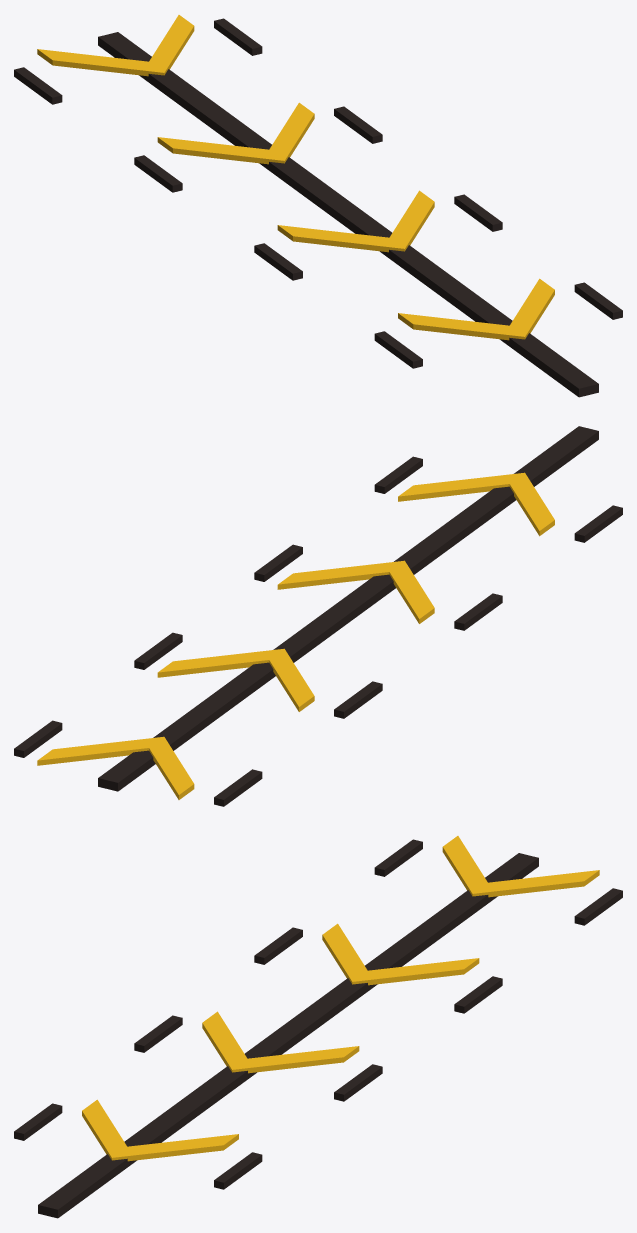
The model's file is trap_dart_lane__upper.glb.
3 renders of one model, top to bottom at view 1: azimuth 30°, elevation 25°; view 2: azimuth 150°, elevation 25°; view 3: azimuth 330°, elevation 25°, orthographic.
Parts seen in each view (by area): view 1: Lane; view 2: Lane; view 3: Lane.
Boxes of the visible parts, x1=… form: Lane: x1=14, y1=15, x2=622, y2=397; Lane: x1=14, y1=426, x2=622, y2=806; Lane: x1=14, y1=836, x2=622, y2=1218.
Size of the model in its own units: 0.252 by 0.013 by 1.
